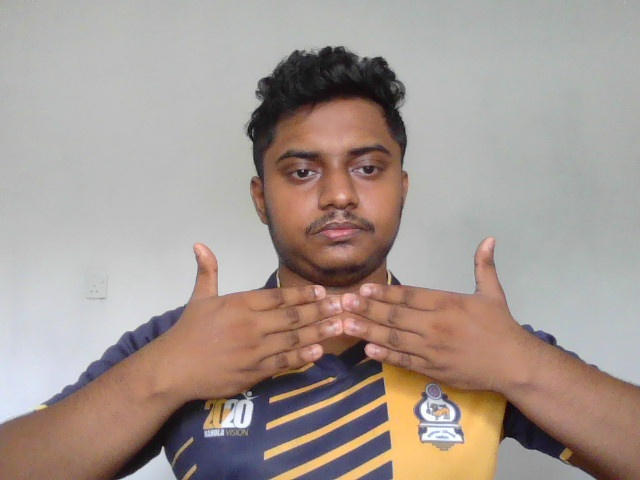Thank You: (158, 235, 526, 406)
